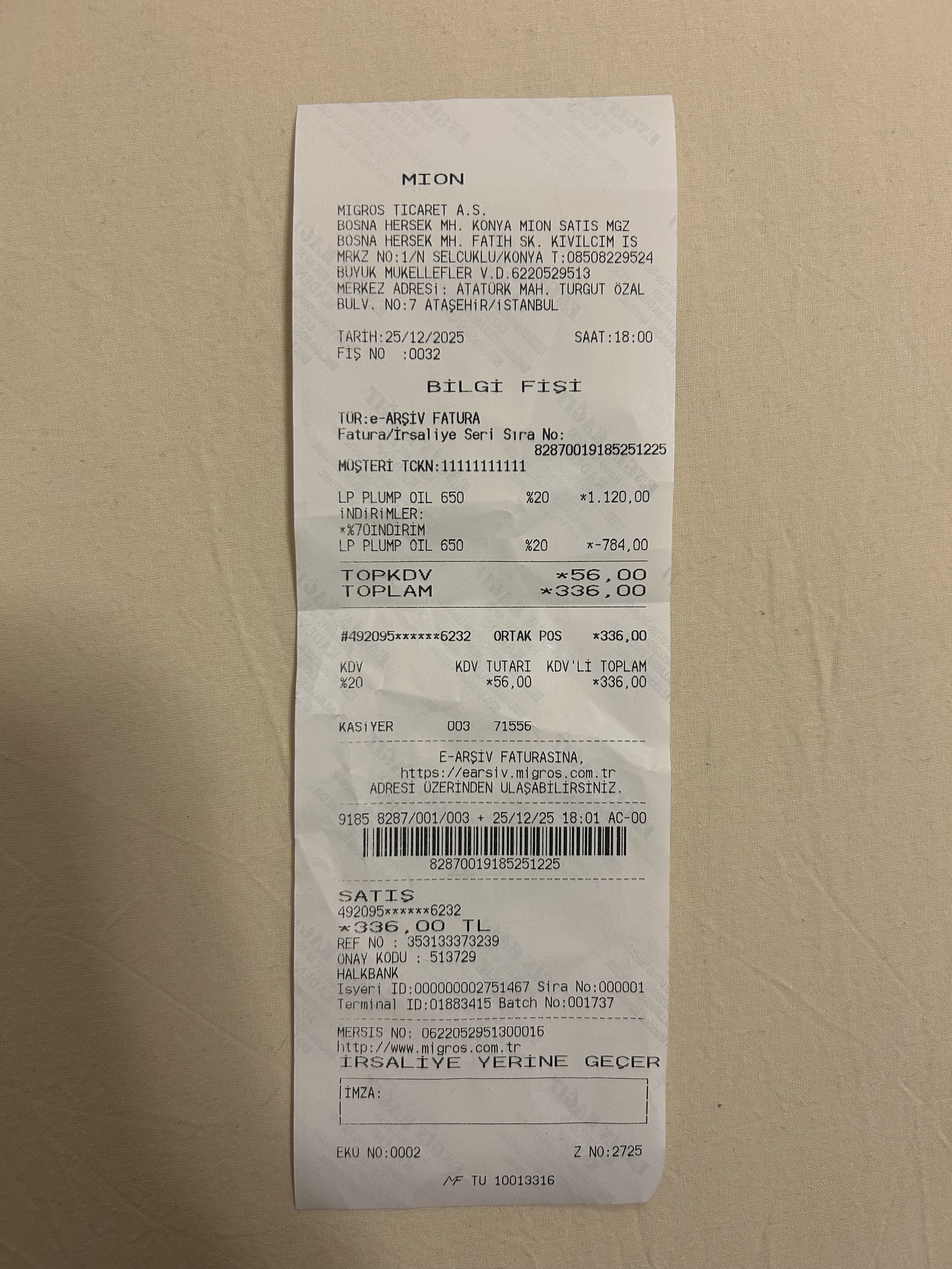date: (384, 322, 471, 347)
price: (550, 580, 650, 601)
workplace: (334, 171, 660, 267)
